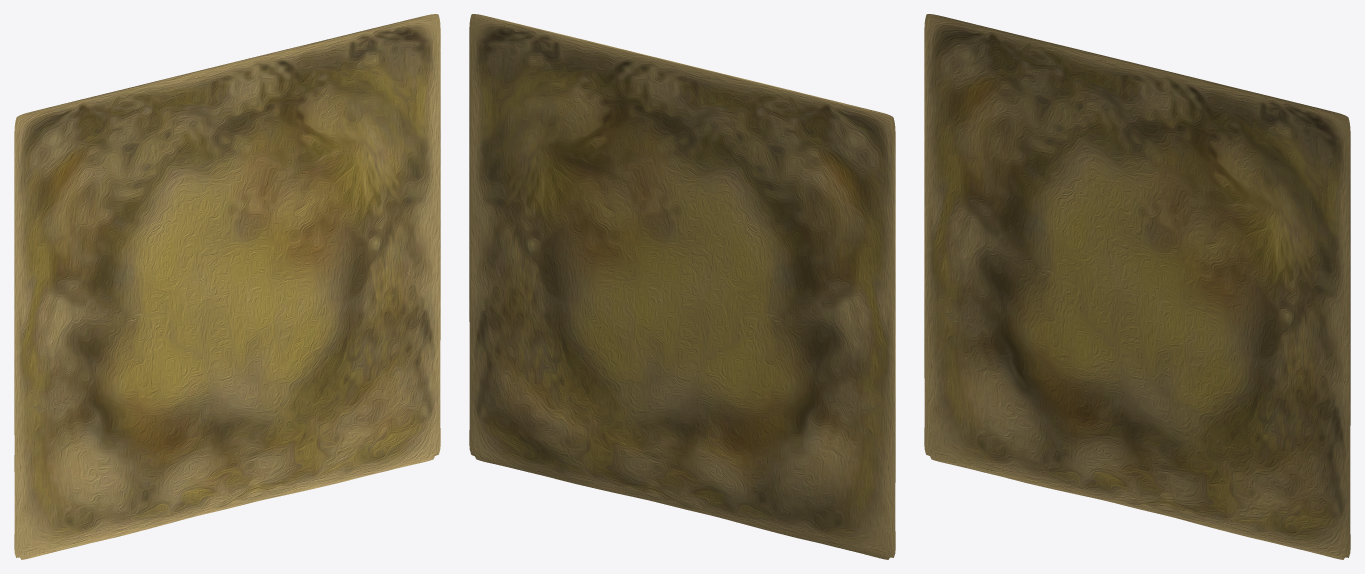
The model's file is Floor.fbx.
3 renders of one model, left to right at view 1: azimuth 30°, elevation 25°; view 2: azimuth 150°, elevation 25°; view 3: azimuth 330°, elevation 25°, orthographic.
Parts seen in each view (by area): view 1: Floor; view 2: Floor; view 3: Floor.
Boxes of the visible parts, left/top/right/bottom form: Floor: left=14, top=14, right=440, bottom=559; Floor: left=469, top=14, right=895, bottom=559; Floor: left=924, top=14, right=1350, bottom=559.
Size of the model in its own units: 1686 by 1686 by 29.61.
Materials: 1 (1 with a texture image).
